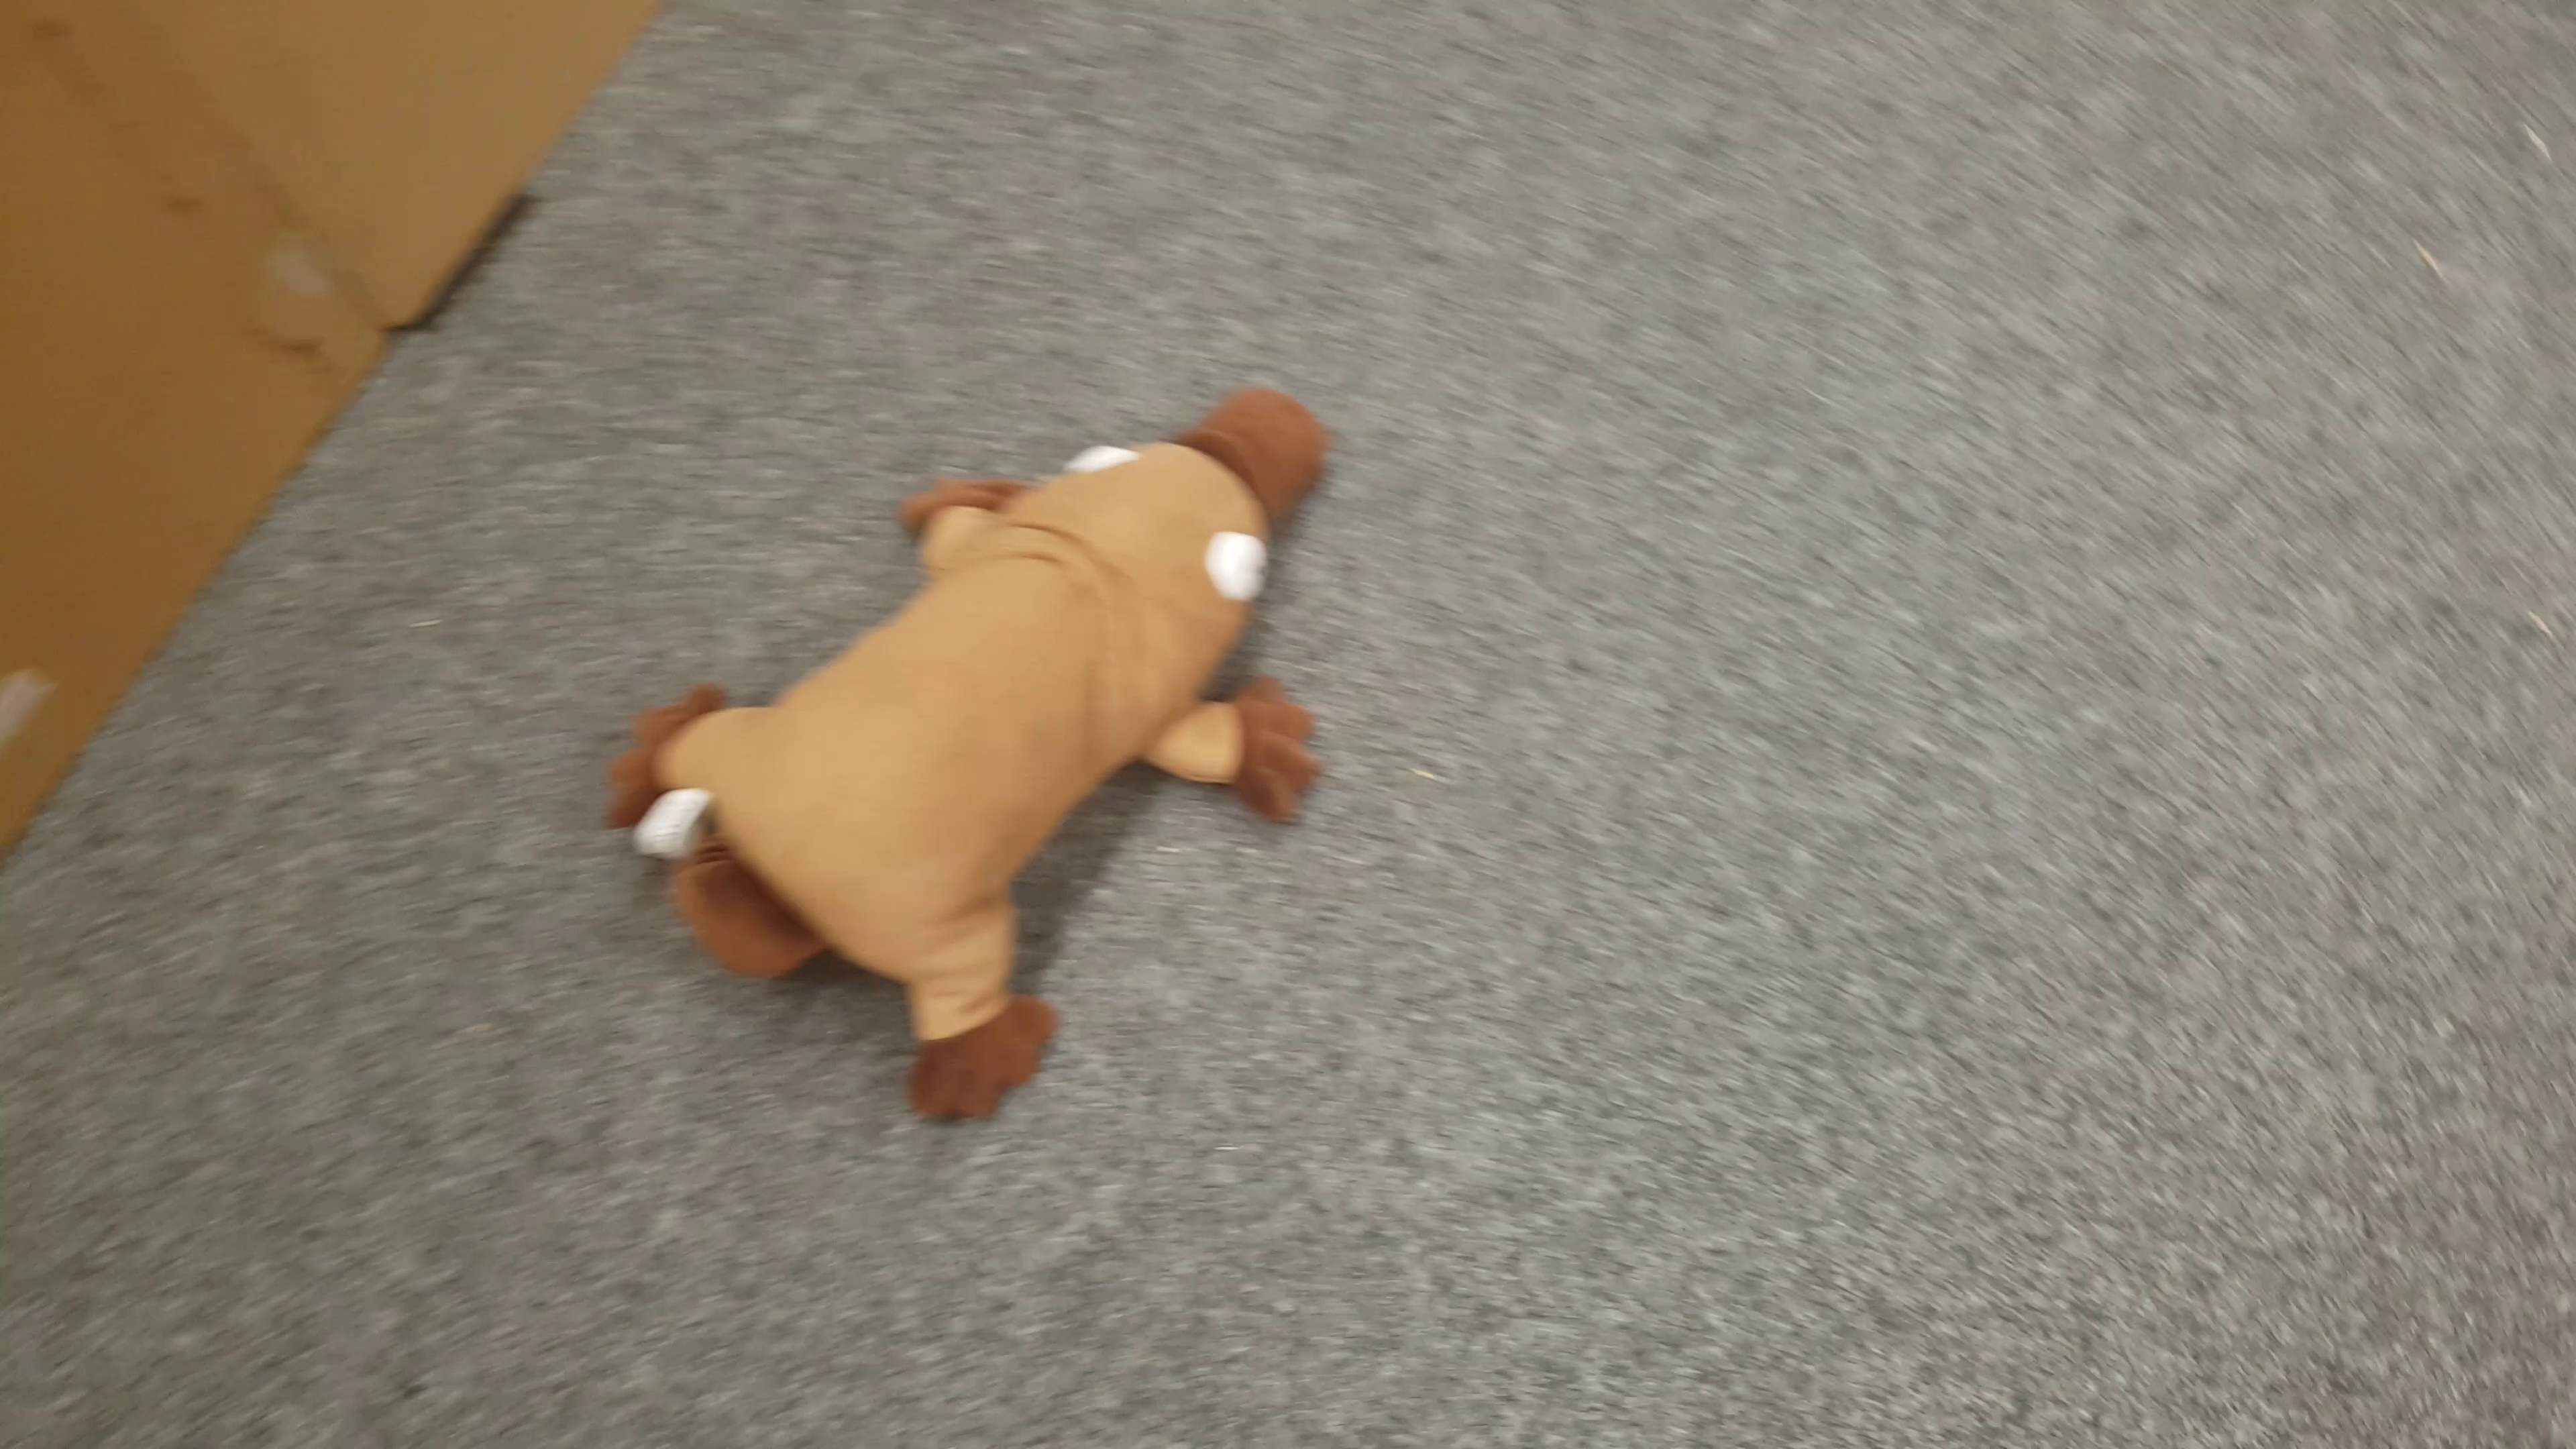grasp: (621, 391, 1345, 1115)
